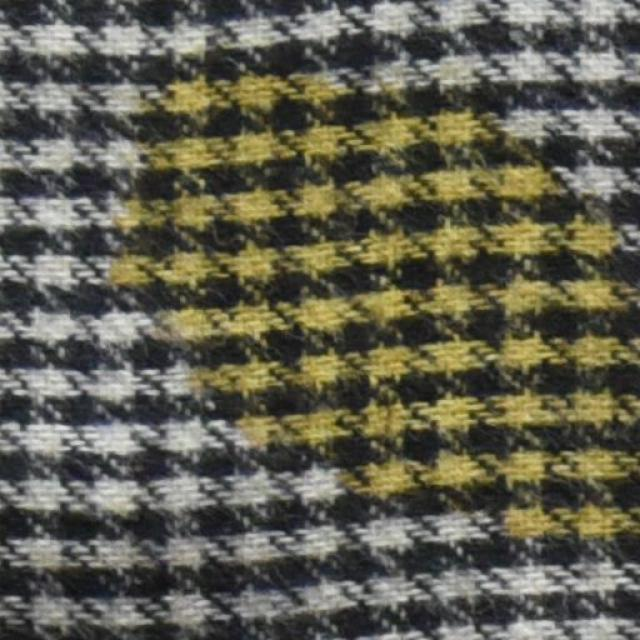Stain: (96, 48, 639, 537)
